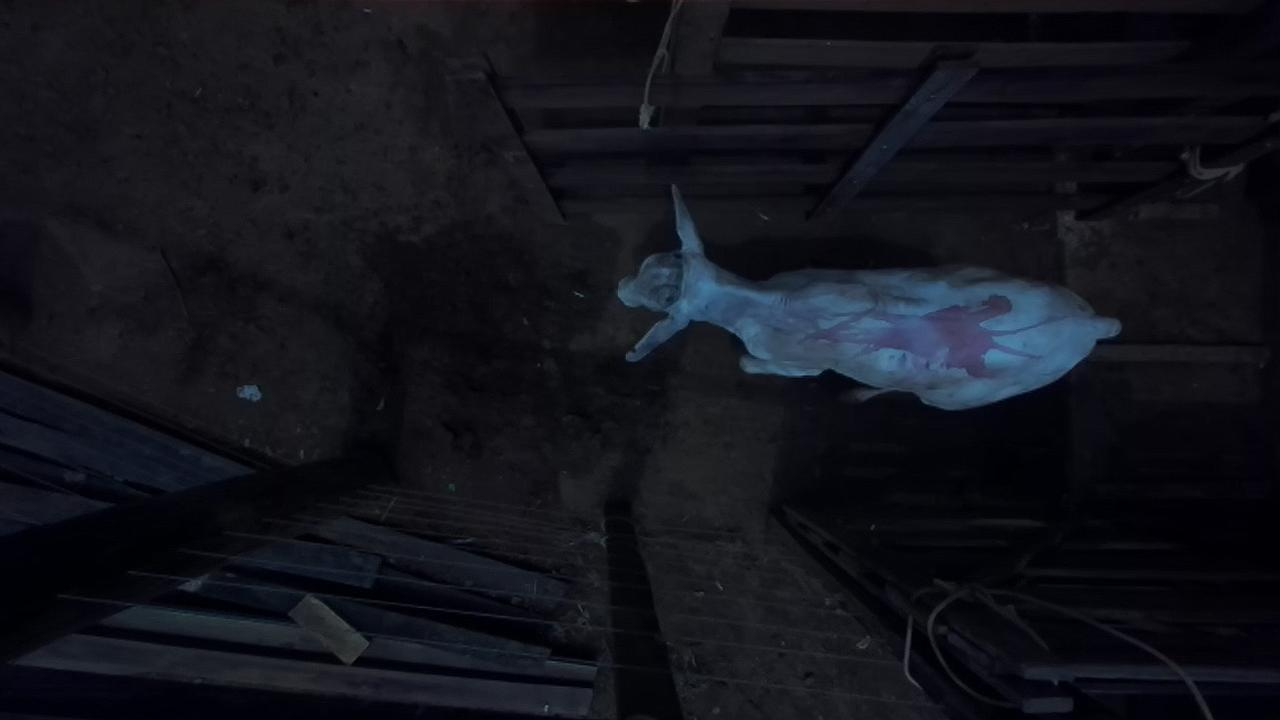cattle: (615, 181, 1122, 412)
